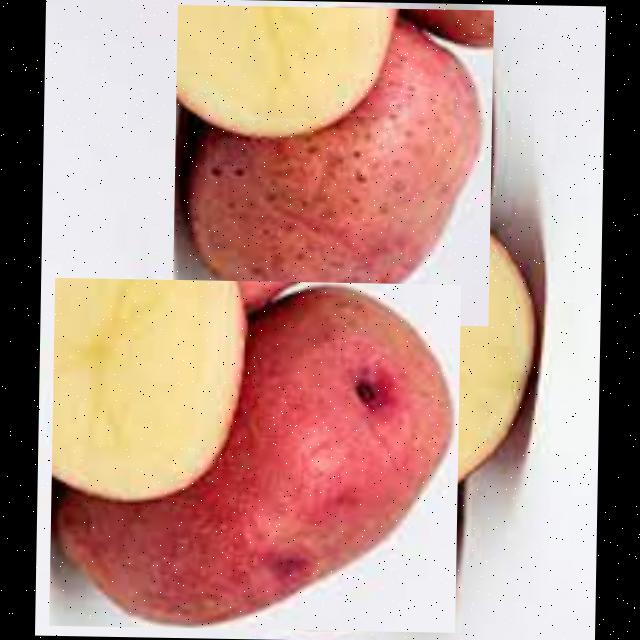Defected potato: (48, 276, 460, 632)
Diseased-fungal potato: (172, 3, 493, 324)
